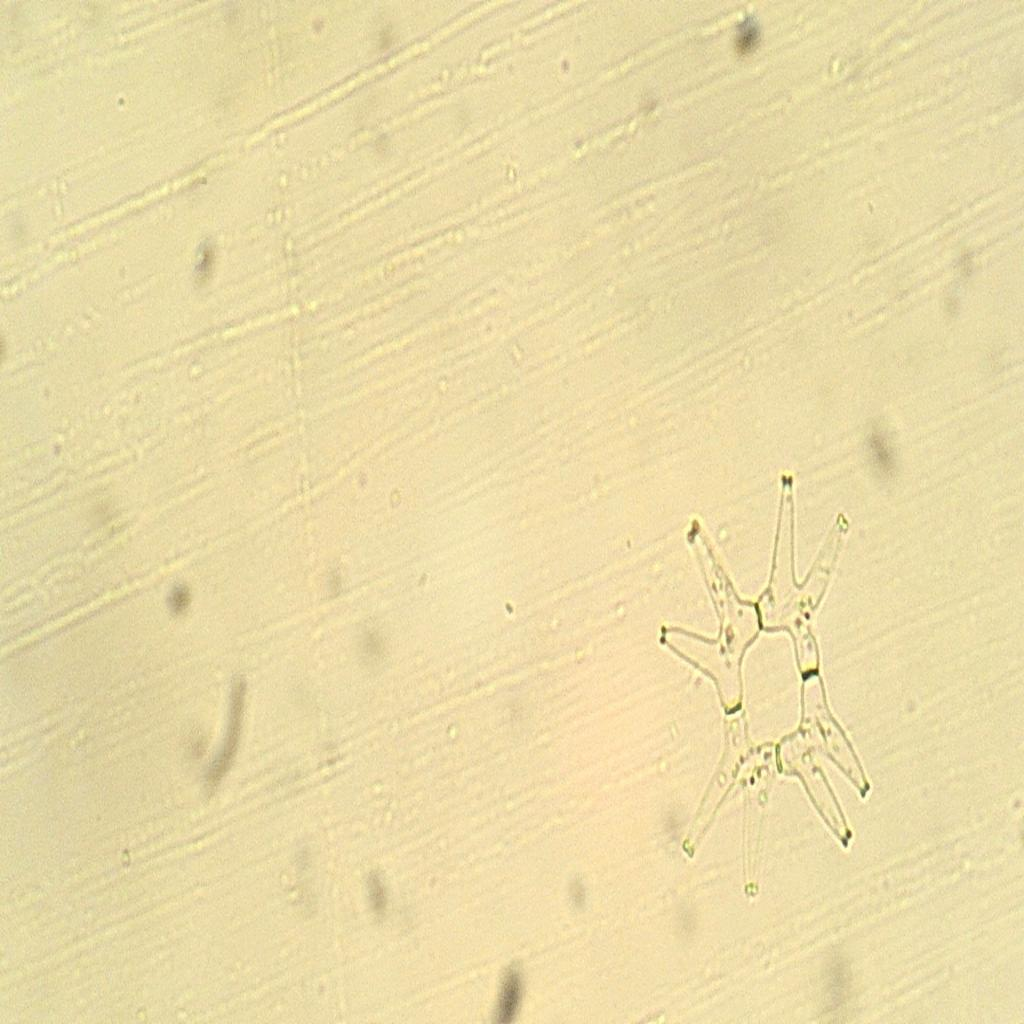Pediastrum_75TH: (635, 463, 888, 914)
